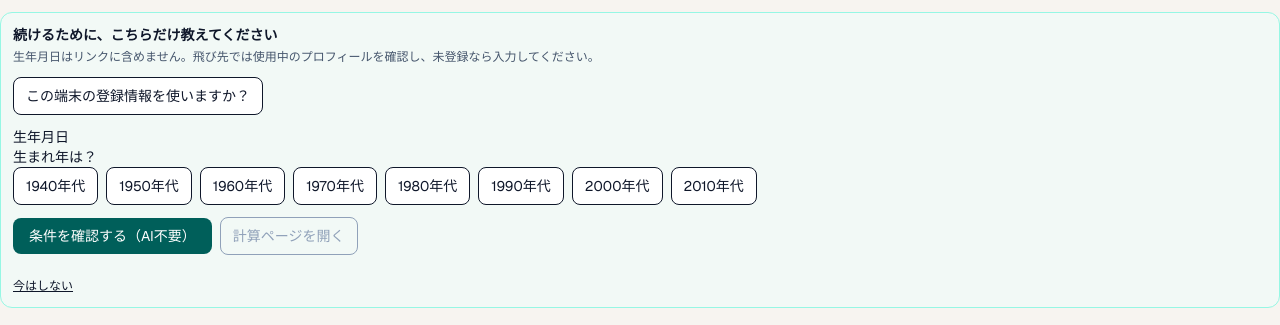
Test: 端末の登録情報を明示的に再利用しても書き直さない
What coordinates should you click on to do the following:
click the button "この端末の登録情報を使いますか？"
I would click on:
 (138, 96)
Its box is x1=13 y1=77 x2=263 y2=115.
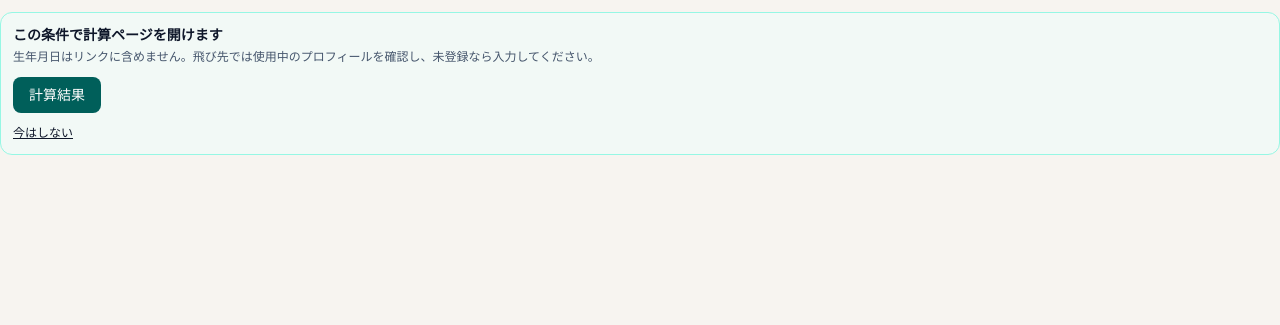
Result: the link "計算結果" is shown at x1=13 y1=77 x2=101 y2=113
